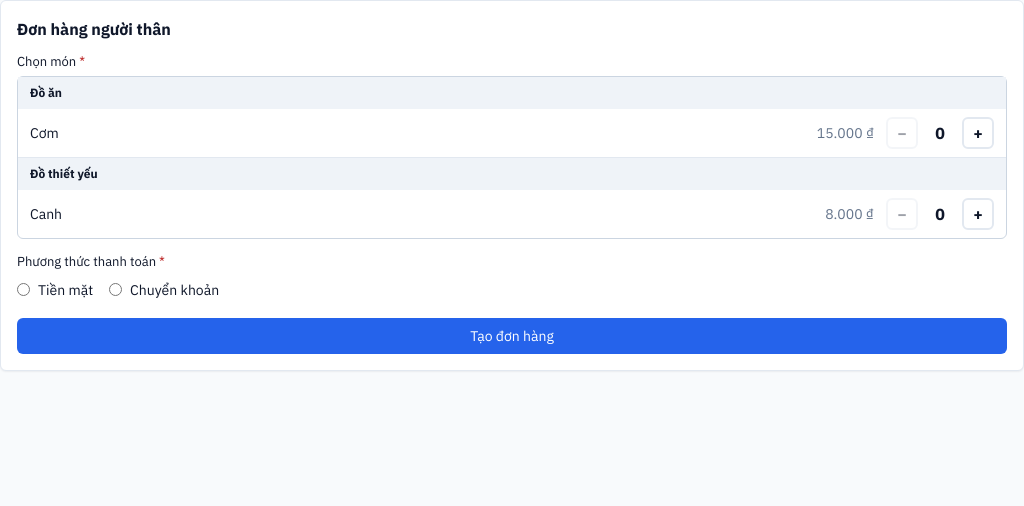
RelativeOrderForm — running total › accumulates total across lines and multiplies by quantity
The image size is (1024, 506).
Click the button "+" in the row of "15.000 ₫" at (978, 133), box [962,117,994,149]
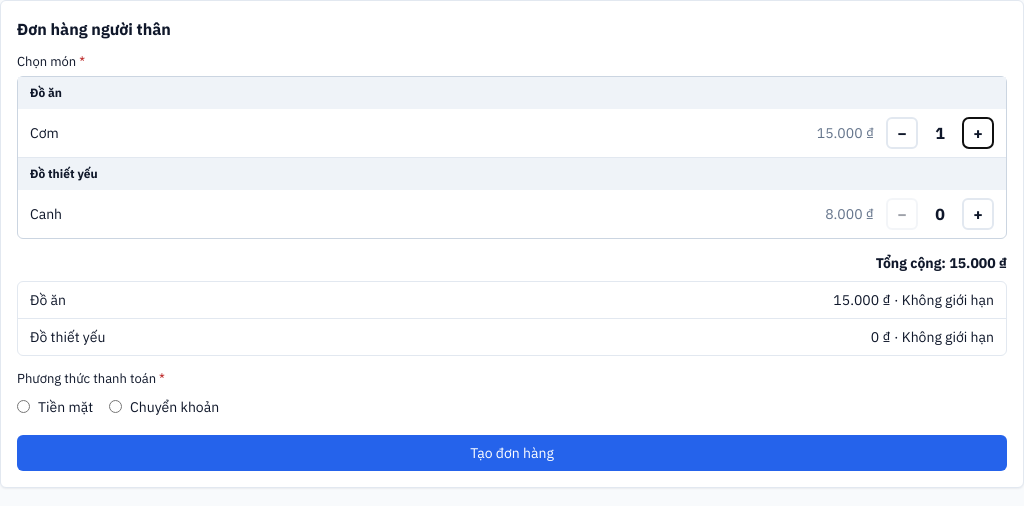
Click the button "+" in the row of "Cơm" at (978, 133), box [962,117,994,149]
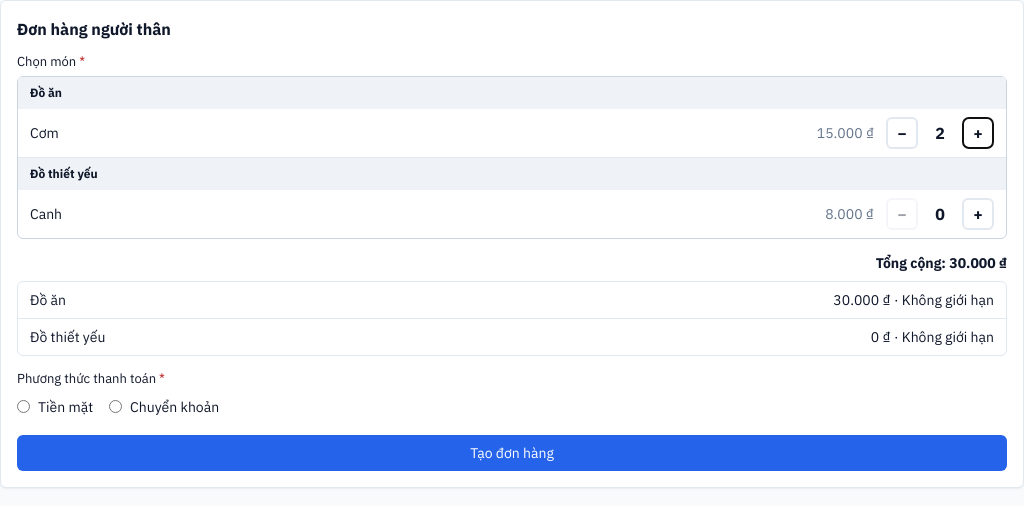
Click the button "+" in the row of "8.000 ₫" at (978, 214), box [962,198,994,230]
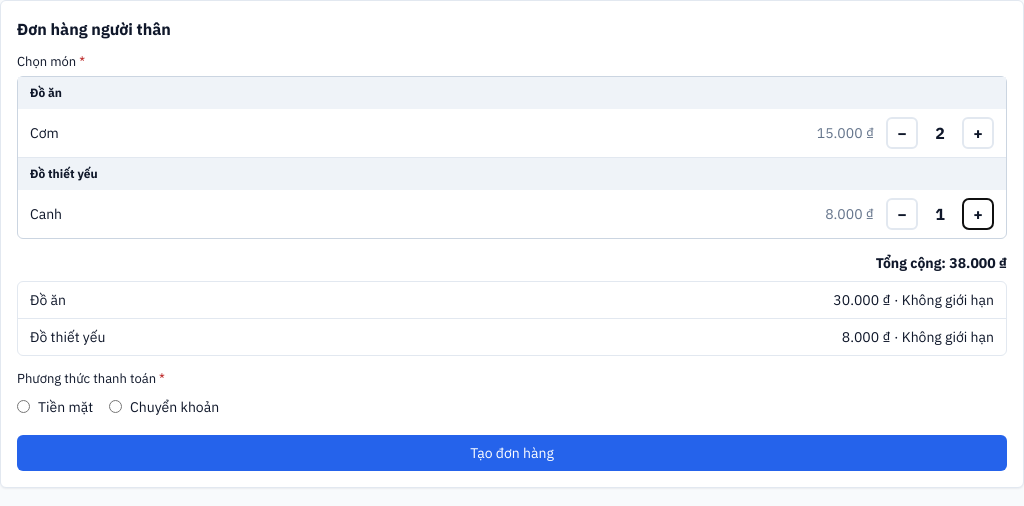
Check: the text "Tổng cộng: 38.000 ₫" is shown, box [876,254,1007,272]
